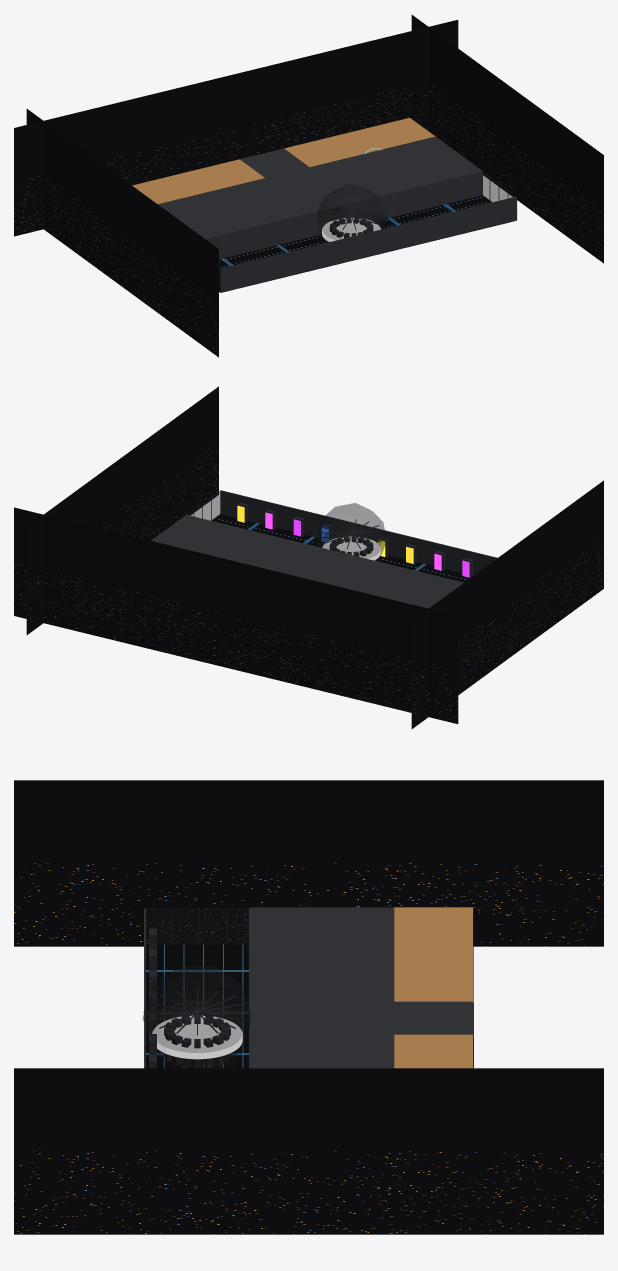
Rendered from office.glb.
3 renders of one model, top to bottom at view 1: azimuth 30°, elevation 25°; view 2: azimuth 150°, elevation 25°; view 3: azimuth 270°, elevation 25°, orthographic. The views are drawn at different scales.
Visible parts, largest first — view 1: backdrop_0, backdrop_1, backdrop_2, wall_04, ceiling_meeting, ceiling_corridor, ceiling_ceo, dc_dome, ceiling_control, wall_15, ceiling_devops, ceiling_lounge (+6 smaller); view 2: backdrop_0, backdrop_1, backdrop_2, wall_04, ceiling_ceo, dc_dome, ceiling_devops, floor_dc, ceiling_corridor, ceiling_control, ceiling_staff, dc_glass (+2 smaller); view 3: backdrop_2, backdrop_1, dc_dome, floor_dc, ceiling_corridor, ceiling_lounge, ceiling_devops, ceiling_staff, dc_glass, wall_05, ceiling_meeting, ceiling_control (+2 smaller).
Part boxes in pixels (left/top/right/bottom): backdrop_0: left=14, top=20, right=458, bottom=236; backdrop_1: left=26, top=109, right=218, bottom=357; backdrop_2: left=411, top=15, right=603, bottom=263; wall_04: left=220, top=196, right=516, bottom=292; ceiling_meeting: left=284, top=117, right=435, bottom=166; ceiling_corridor: left=240, top=148, right=356, bottom=212; ceiling_ceo: left=333, top=154, right=482, bottom=201; dc_dome: left=317, top=184, right=386, bottom=242; ceiling_control: left=310, top=136, right=458, bottom=184; wall_15: left=345, top=171, right=482, bottom=221; ceiling_devops: left=179, top=193, right=312, bottom=239; ceiling_lounge: left=132, top=159, right=264, bottom=204; backdrop_0: left=14, top=507, right=458, bottom=723; backdrop_1: left=411, top=480, right=603, bottom=728; backdrop_2: left=26, top=386, right=218, bottom=634; wall_04: left=220, top=490, right=497, bottom=575; ceiling_ceo: left=163, top=515, right=311, bottom=562; dc_dome: left=316, top=503, right=386, bottom=560; ceiling_devops: left=331, top=556, right=463, bottom=601; floor_dc: left=211, top=514, right=469, bottom=582; ceiling_corridor: left=277, top=545, right=355, bottom=582; ceiling_control: left=151, top=532, right=288, bottom=571; ceiling_staff: left=321, top=575, right=437, bottom=608; dc_glass: left=323, top=527, right=380, bottom=561; backdrop_2: left=14, top=1068, right=603, bottom=1234; backdrop_1: left=14, top=780, right=603, bottom=946; dc_dome: left=142, top=966, right=252, bottom=1067; floor_dc: left=146, top=944, right=248, bottom=1068; ceiling_corridor: left=250, top=1001, right=472, bottom=1034; ceiling_lounge: left=394, top=907, right=472, bottom=1001; ceiling_devops: left=250, top=907, right=328, bottom=1001; ceiling_staff: left=328, top=907, right=394, bottom=1001; dc_glass: left=153, top=1001, right=241, bottom=1067; wall_05: left=145, top=908, right=249, bottom=944; ceiling_meeting: left=394, top=1034, right=472, bottom=1068; ceiling_control: left=322, top=1034, right=394, bottom=1068.
Bounding box in the file's own units: 60 × 14 × 45.
24 materials, 3 textured.
